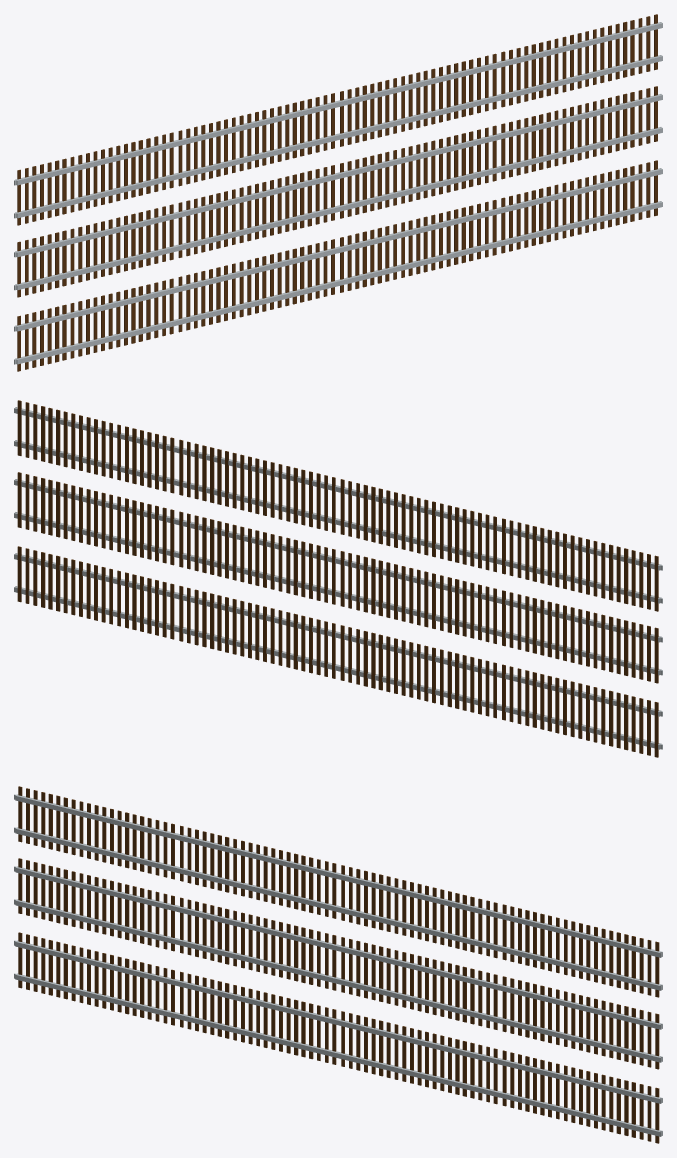
The model's file is tinker.obj.
3 views of the same model, one above another, from view 1: azimuth 30°, elevation 25°; view 2: azimuth 150°, elevation 25°; view 3: azimuth 330°, elevation 25° (orthographic).
Visible parts, largest first — view 1: group_0_6306067, group_0_12568524; view 2: group_0_6306067, group_0_12568524; view 3: group_0_6306067, group_0_12568524.
Part boxes in pixels (left/top/right/bottom): group_0_6306067: left=17, top=14, right=657, bottom=371; group_0_12568524: left=14, top=22, right=662, bottom=364; group_0_6306067: left=17, top=400, right=658, bottom=757; group_0_12568524: left=14, top=407, right=662, bottom=749; group_0_6306067: left=18, top=786, right=659, bottom=1143; group_0_12568524: left=14, top=794, right=662, bottom=1136.
Bounding box in the file's own units: 594 × 176 × 3.
